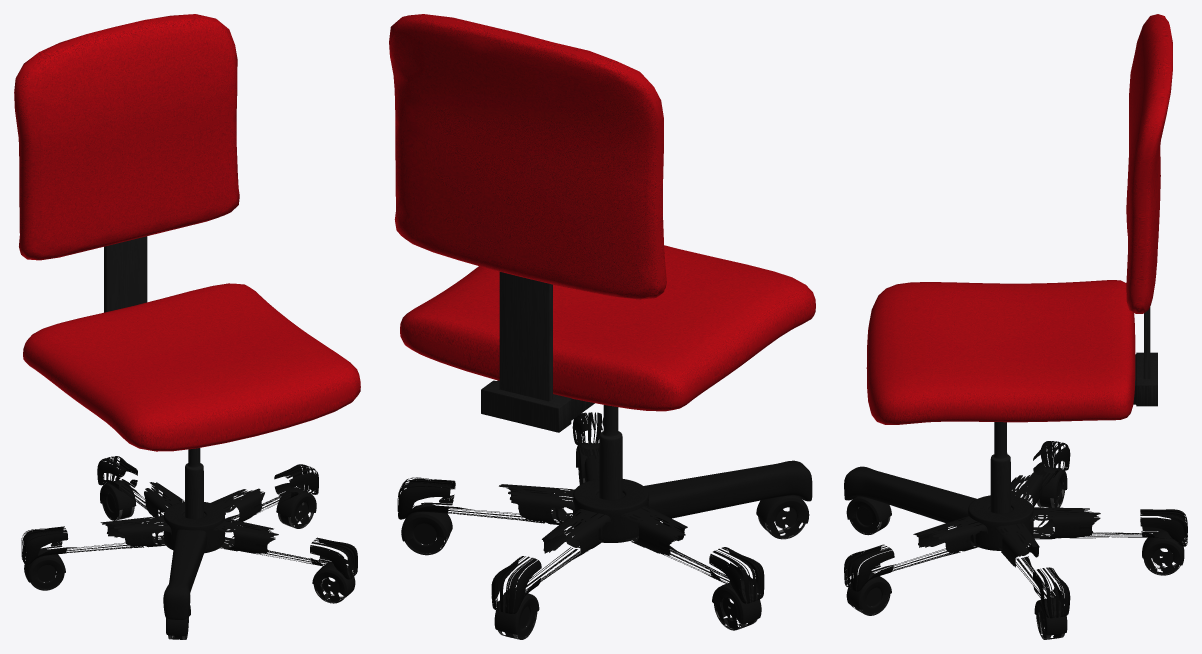
Rendered from chairModel.fbx.
The picture shows the model from 3 angles, left to right: view 1: azimuth 30°, elevation 25°; view 2: azimuth 150°, elevation 25°; view 3: azimuth 270°, elevation 25°; orthographic projection. The views are drawn at different scales.
Visible parts, largest first — view 1: chairBack, seat, leg3, leg1, topStructure, leg2, leg5, leg4, legStructure, bottomStructure, wheelTop3, wheelTop2 (+5 smaller); view 2: chairBack, seat, topStructure, leg2, leg5, leg4, leg3, legStructure, bottomStructure, leg1, wheelTop3, wheelTop5 (+5 smaller); view 3: seat, chairBack, leg2, leg4, leg1, leg5, legStructure, leg3, bottomStructure, topStructure, wheelTop4, wheelTop2 (+6 smaller).
Boxes of the visible parts, x1=… form: chairBack: x1=14, y1=14, x2=239, y2=260; seat: x1=23, y1=283, x2=360, y2=451; leg3: x1=21, y1=516, x2=184, y2=565; leg1: x1=213, y1=518, x2=357, y2=579; topStructure: x1=104, y1=236, x2=147, y2=312; leg2: x1=163, y1=529, x2=207, y2=619; leg5: x1=204, y1=464, x2=318, y2=529; leg4: x1=97, y1=456, x2=184, y2=525; legStructure: x1=163, y1=502, x2=225, y2=553; bottomStructure: x1=185, y1=448, x2=203, y2=518; wheelTop3: x1=276, y1=488, x2=316, y2=517; wheelTop2: x1=312, y1=563, x2=355, y2=596; chairBack: x1=389, y1=14, x2=666, y2=299; seat: x1=400, y1=245, x2=815, y2=411; topStructure: x1=481, y1=272, x2=594, y2=432; leg2: x1=622, y1=460, x2=812, y2=520; leg5: x1=397, y1=477, x2=599, y2=526; leg4: x1=491, y1=508, x2=612, y2=613; leg3: x1=614, y1=505, x2=764, y2=603; legStructure: x1=573, y1=479, x2=648, y2=542; bottomStructure: x1=599, y1=405, x2=622, y2=499; leg1: x1=572, y1=412, x2=603, y2=493; wheelTop3: x1=401, y1=504, x2=452, y2=541; wheelTop5: x1=712, y1=580, x2=761, y2=624; seat: x1=866, y1=280, x2=1135, y2=424; chairBack: x1=1126, y1=14, x2=1172, y2=313; leg2: x1=844, y1=466, x2=990, y2=526; leg4: x1=1011, y1=507, x2=1187, y2=546; leg1: x1=844, y1=516, x2=987, y2=591; leg5: x1=995, y1=523, x2=1070, y2=618; legStructure: x1=968, y1=495, x2=1033, y2=550; leg3: x1=1011, y1=441, x2=1070, y2=509; bottomStructure: x1=990, y1=422, x2=1010, y2=513; topStructure: x1=1133, y1=307, x2=1157, y2=406; wheelTop4: x1=1142, y1=531, x2=1184, y2=565; wheelTop2: x1=846, y1=572, x2=891, y2=609.
Bounding box in the file's own units: 0.6181 × 0.986 × 0.5902.
Materials: 5 (5 with a texture image).
